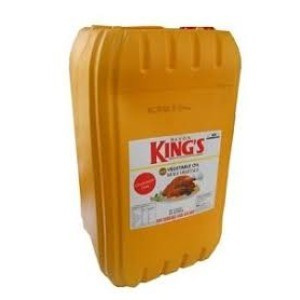vegetable oil_brain food: (76, 69, 229, 228)
